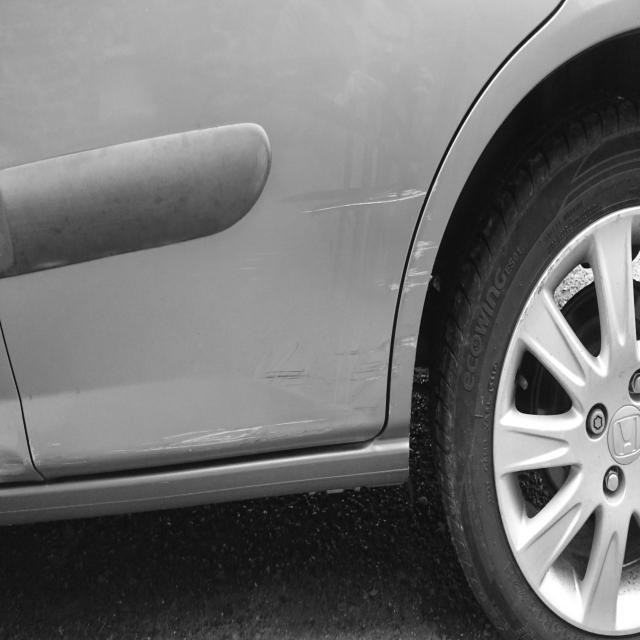dent: (0, 448, 25, 475)
scratch: (19, 330, 418, 477), (299, 179, 443, 222), (387, 240, 439, 296)
